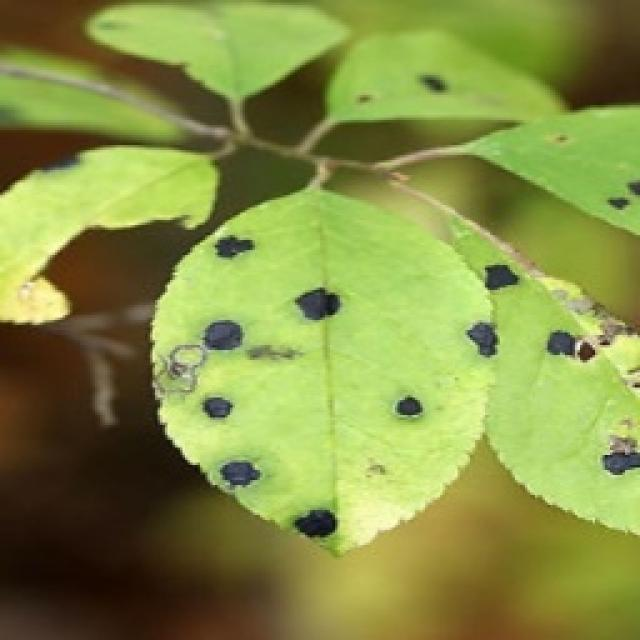Tar_Spot: (145, 180, 497, 558)
